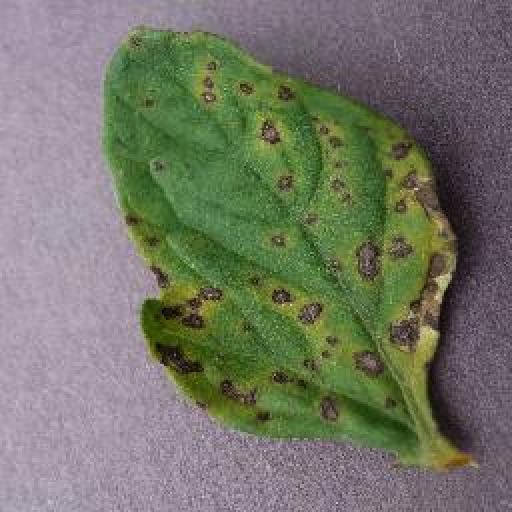disease_tomato: (102, 27, 488, 473)
